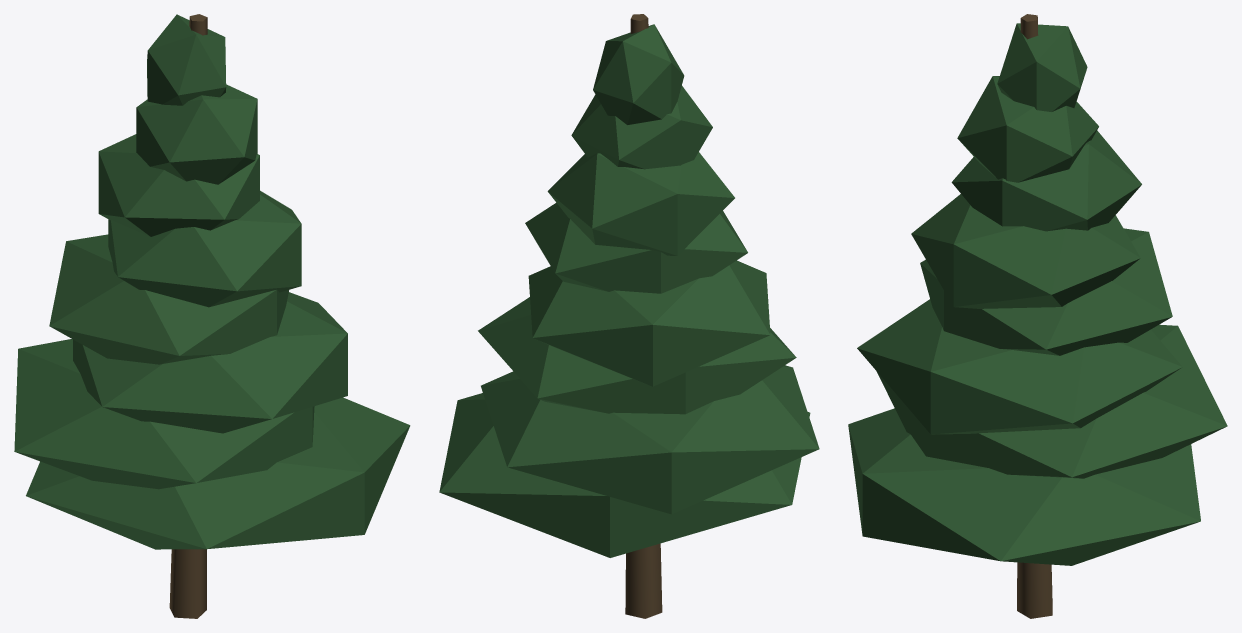
3 views of the same model, side by side, from view 1: azimuth 30°, elevation 25°; view 2: azimuth 150°, elevation 25°; view 3: azimuth 270°, elevation 25° (orthographic).
Parts seen in each view (by area): view 1: pine-leaf; view 2: pine-leaf; view 3: pine-leaf.
Boxes of the visible parts, x1=… form: pine-leaf: x1=14, y1=14, x2=410, y2=618; pine-leaf: x1=439, y1=14, x2=819, y2=618; pine-leaf: x1=848, y1=14, x2=1227, y2=618.
Size of the model in its own units: 6.7 by 10.01 by 5.77.
